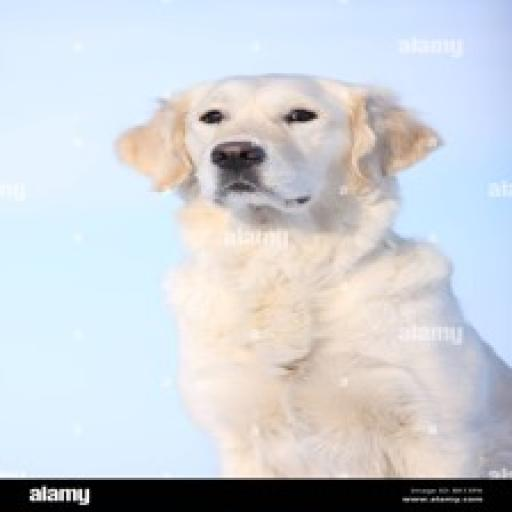dog: (107, 70, 512, 480)
